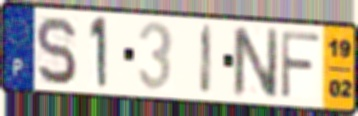1: (87, 14, 110, 92)
3: (136, 20, 177, 94)
F: (279, 28, 323, 102)
I: (198, 22, 215, 99)
N: (230, 26, 280, 101)
S: (33, 14, 79, 87)
